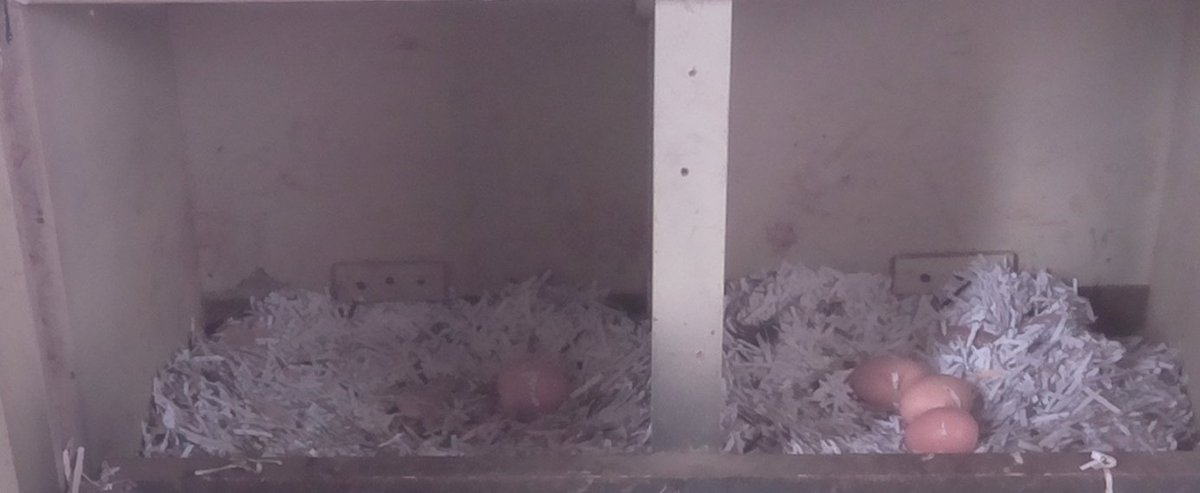egg: (490, 354, 579, 427), (843, 347, 931, 407), (893, 405, 992, 455), (893, 372, 981, 422)
